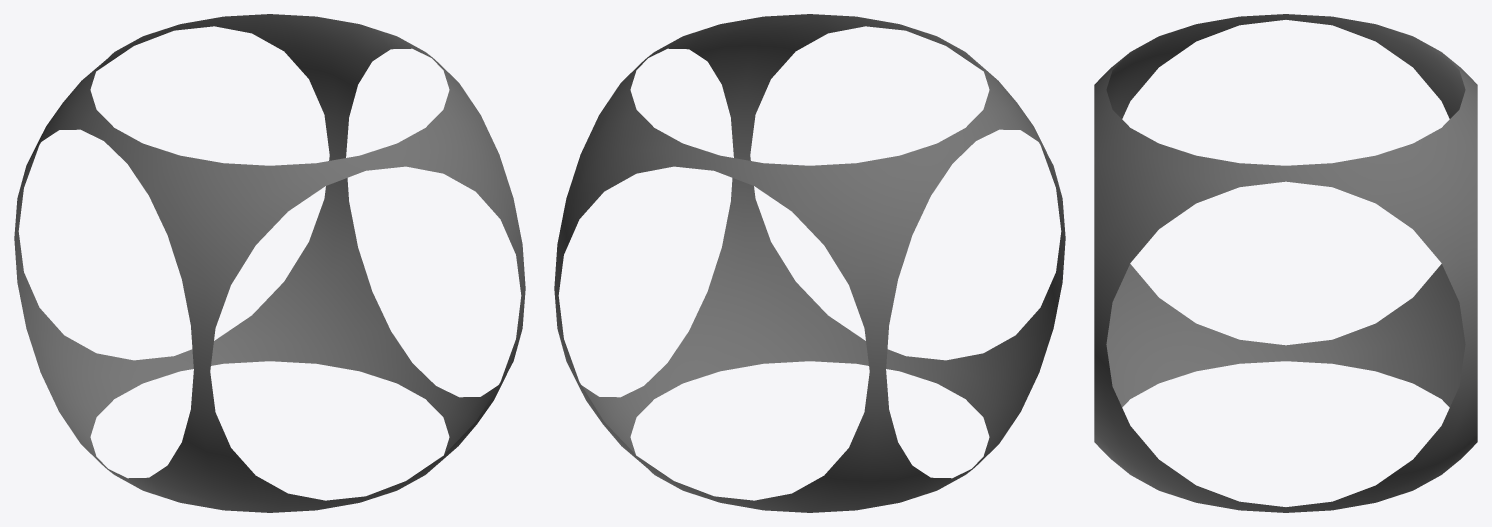
The model's file is eridani_node_s0p5_1.obj.
3 views of the same model, side by side, from view 1: azimuth 30°, elevation 25°; view 2: azimuth 150°, elevation 25°; view 3: azimuth 270°, elevation 25° (orthographic).
Visible parts, largest first — view 1: mesh1; view 2: mesh1; view 3: mesh1.
Part boxes in pixels (bbox=[...]): mesh1: bbox=[14, 14, 525, 512]; mesh1: bbox=[554, 14, 1065, 512]; mesh1: bbox=[1094, 14, 1477, 512].
Bounding box in the file's own units: 1 × 1 × 1.
1 material, 1 textured.
